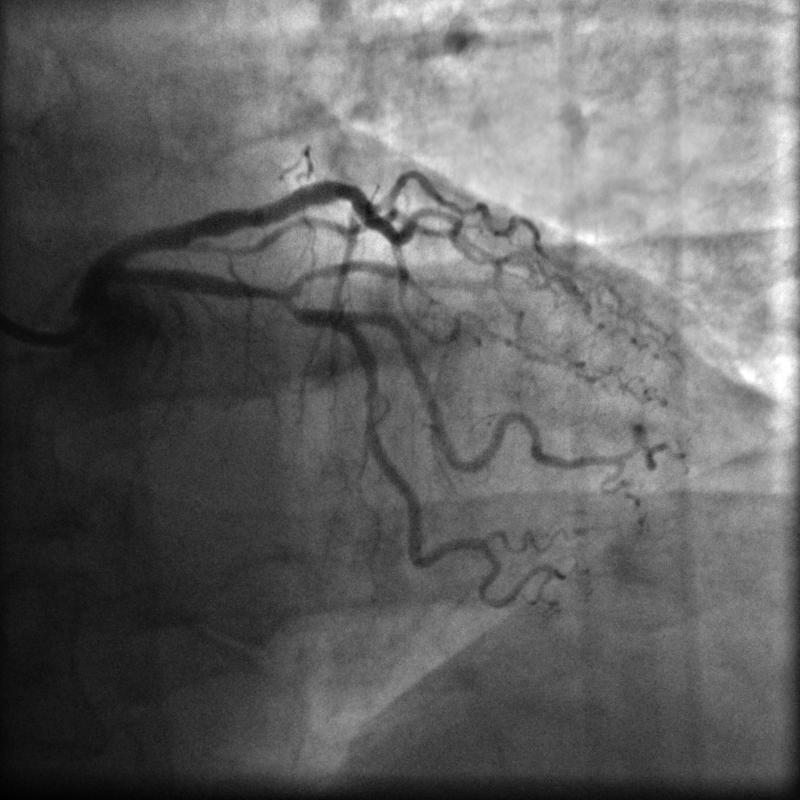Stenosis: (253, 278, 296, 311)
